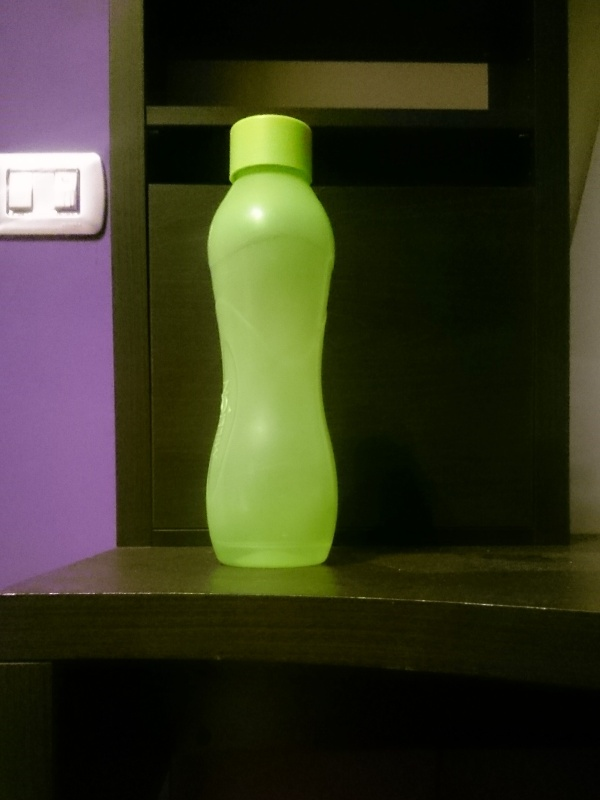my bottle: (204, 113, 338, 569)
